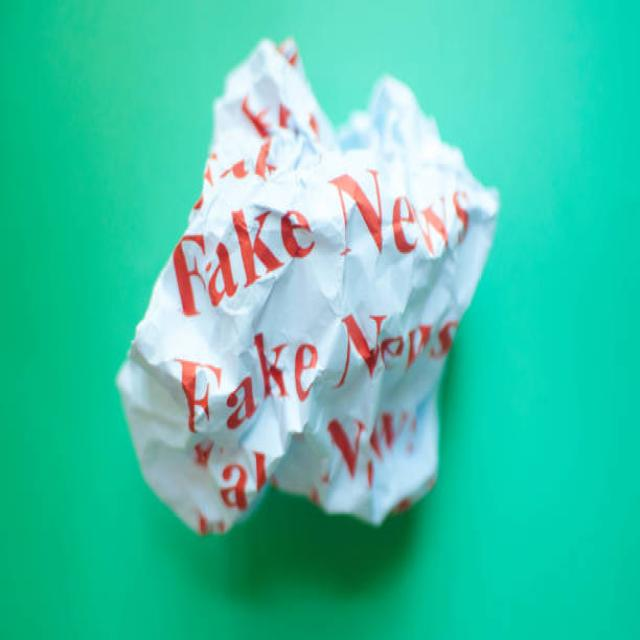electronic: (115, 35, 499, 536)
